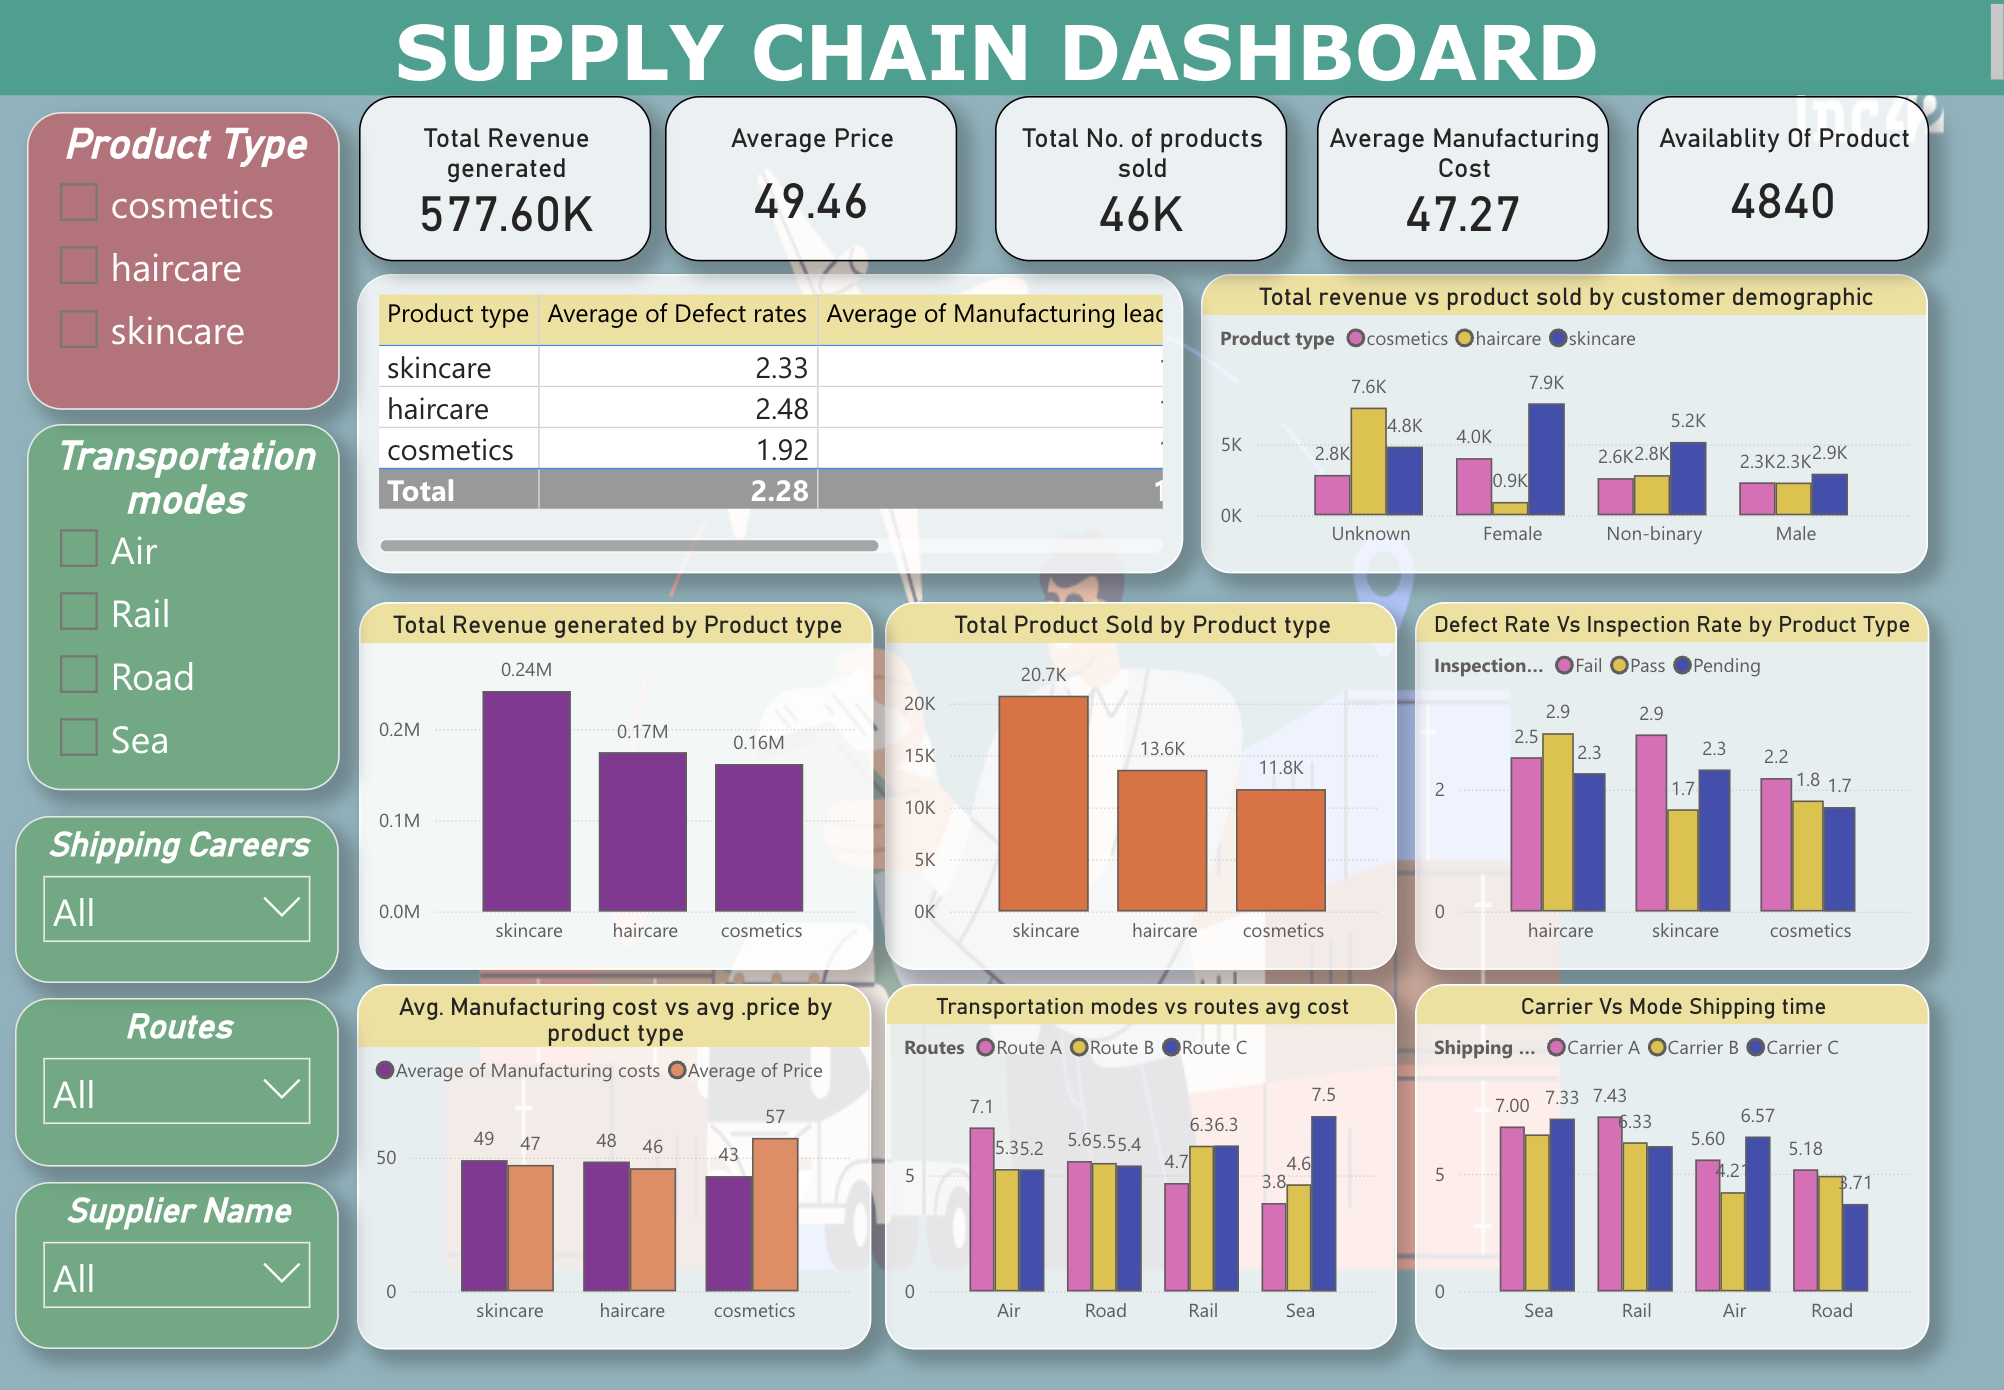

What the dashboard file says about the page in this screenshot:
{"tool":"powerbi","page":{"name":"Page 1","canvas":[1280,890],"ordinal":0},"visuals":[{"type":"clusteredColumnChart","title":"Defect Rate Vs Inspection Rate by Product Type","fields":{"Category":["Table.Product type"],"Y":["Avg(Table.Defect rates)"],"Series":["Table.Inspection results"]},"box":[901,384.3,326.6,233.4],"z":0},{"type":"columnChart","title":"Total Product Sold by Product type","fields":{"Category":["Table.Product type"],"Y":["Sum(Table.Number of products sold)"]},"box":[565.2,384.3,325.2,233.4],"z":1000},{"type":"columnChart","title":"Total Revenue generated by Product type","fields":{"Y":["Sum(Table.Revenue generated)"],"Category":["Table.Product type"]},"box":[230.8,384.3,326.6,233.4],"z":2000},{"type":"clusteredColumnChart","title":"Total revenue vs product sold by customer demographic","fields":{"Category":["Table.Customer demographics"],"Series":["Table.Product type"],"Y":["Sum(Table.Number of products sold)"]},"box":[765.9,177.1,461.6,190.2],"z":3000},{"type":"clusteredColumnChart","title":"Avg. Manufacturing cost vs avg .price by product type","fields":{"Category":["Table.Product type"],"Y":["Avg(Table.Manufacturing costs)","Avg(Table.Price)"]},"box":[229.5,626.9,326.6,232.1],"z":4000},{"type":"clusteredColumnChart","title":"Transportation modes vs routes avg cost","fields":{"Category":["Table.Transportation modes"],"Series":["Table.Routes"],"Y":["Avg(Table.Shipping costs)"]},"box":[565.2,626.9,325.2,232.1],"z":5000},{"type":"clusteredColumnChart","title":"Carrier Vs Mode Shipping time","fields":{"Y":["Avg(Table.Shipping times)"],"Category":["Table.Transportation modes"],"Series":["Table.Shipping carriers"]},"box":[901,626.9,326.6,232.1],"z":6000},{"type":"actionButton","box":[0,0,100,40],"z":7000},{"type":"tableEx","fields":{"Values":["Table.Product type","Avg(Table.Defect rates)","Avg(Table.Manufacturing lead time)","Avg(Table.Manufacturing costs)"]},"box":[229.5,177.1,524.6,190.2],"z":8000},{"type":"textbox","box":[0,0,1280,63],"z":9000},{"type":"card","title":"Total Revenue generated","fields":{"Values":["Sum(Table.Revenue generated)"]},"box":[231.3,63.1,185.3,105.1],"z":10000},{"type":"card","title":"Average Price","fields":{"Values":["Avg(Table.Price)"]},"box":[425.8,63.1,185.3,105.1],"z":11000},{"type":"card","title":"Total No. of products sold","fields":{"Values":["Sum(Table.Number of products sold)"]},"box":[634.7,63.1,185.3,105.1],"z":12000},{"type":"card","title":"Average Manufacturing Cost","fields":{"Values":["Avg(Table.Manufacturing costs)"]},"box":[839.8,63.1,185.3,105.1],"z":13000},{"type":"card","title":"Availablity Of Product","fields":{"Values":["Sum(Table.Availability)"]},"box":[1042.1,63.1,185.3,105.1],"z":14000},{"type":"slicer","title":"Product Type","fields":{"Values":["Table.Product type"]},"box":[19.7,73.6,198.4,189.2],"z":15000},{"type":"slicer","title":"Transportation modes","fields":{"Values":["Table.Transportation modes"]},"box":[19.7,272,198.4,232.6],"z":16000},{"type":"slicer","title":"Shipping Careers","fields":{"Values":["Table.Shipping carriers"]},"box":[12.9,520.6,205.4,105.9],"z":16001},{"type":"slicer","title":"Routes","fields":{"Values":["Table.Routes"]},"box":[12.9,635.5,205.4,107.2],"z":16002},{"type":"slicer","title":"Supplier Name","fields":{"Values":["Table.Supplier name"]},"box":[12.9,753.1,205.4,105.9],"z":16003}]}

Visuals, with their boxes in screenshot pixels (x1, y1, x2, y2), scaled from the page's 1280x890 canvas onto the 2004x1390 screenshot:
"Defect Rate Vs Inspection Rate by Product Type" clusteredColumnChart: 1411/600/1922/965
"Total Product Sold by Product type" columnChart: 885/600/1394/965
"Total Revenue generated by Product type" columnChart: 361/600/873/965
"Total revenue vs product sold by customer demographic" clusteredColumnChart: 1199/277/1922/574
"Avg. Manufacturing cost vs avg .price by product type" clusteredColumnChart: 359/979/871/1342
"Transportation modes vs routes avg cost" clusteredColumnChart: 885/979/1394/1342
"Carrier Vs Mode Shipping time" clusteredColumnChart: 1411/979/1922/1342
actionButton: 0/0/157/62
tableEx - Table.Product type x Avg(Table.Defect rates): 359/277/1181/574
textbox: 0/0/2003/98
"Total Revenue generated" card: 362/99/652/263
"Average Price" card: 667/99/957/263
"Total No. of products sold" card: 994/99/1284/263
"Average Manufacturing Cost" card: 1315/99/1605/263
"Availablity Of Product" card: 1632/99/1922/263
"Product Type" slicer: 31/115/341/410
"Transportation modes" slicer: 31/425/341/788
"Shipping Careers" slicer: 20/813/342/978
"Routes" slicer: 20/993/342/1160
"Supplier Name" slicer: 20/1176/342/1342
